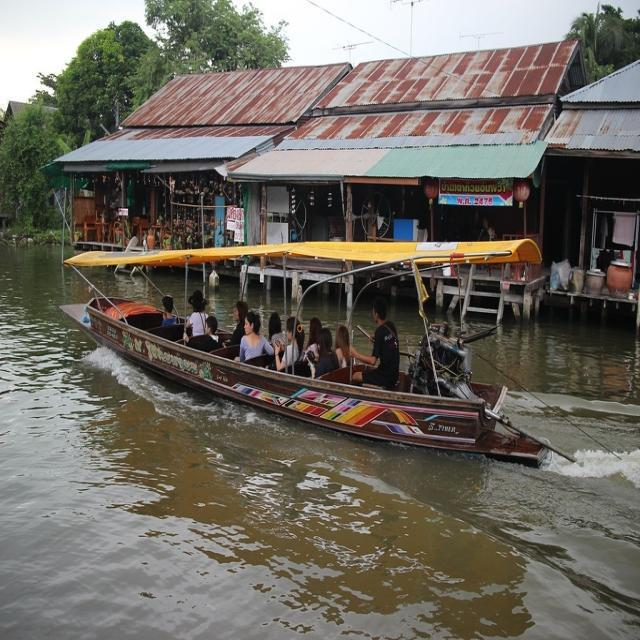boat: (68, 283, 548, 475)
